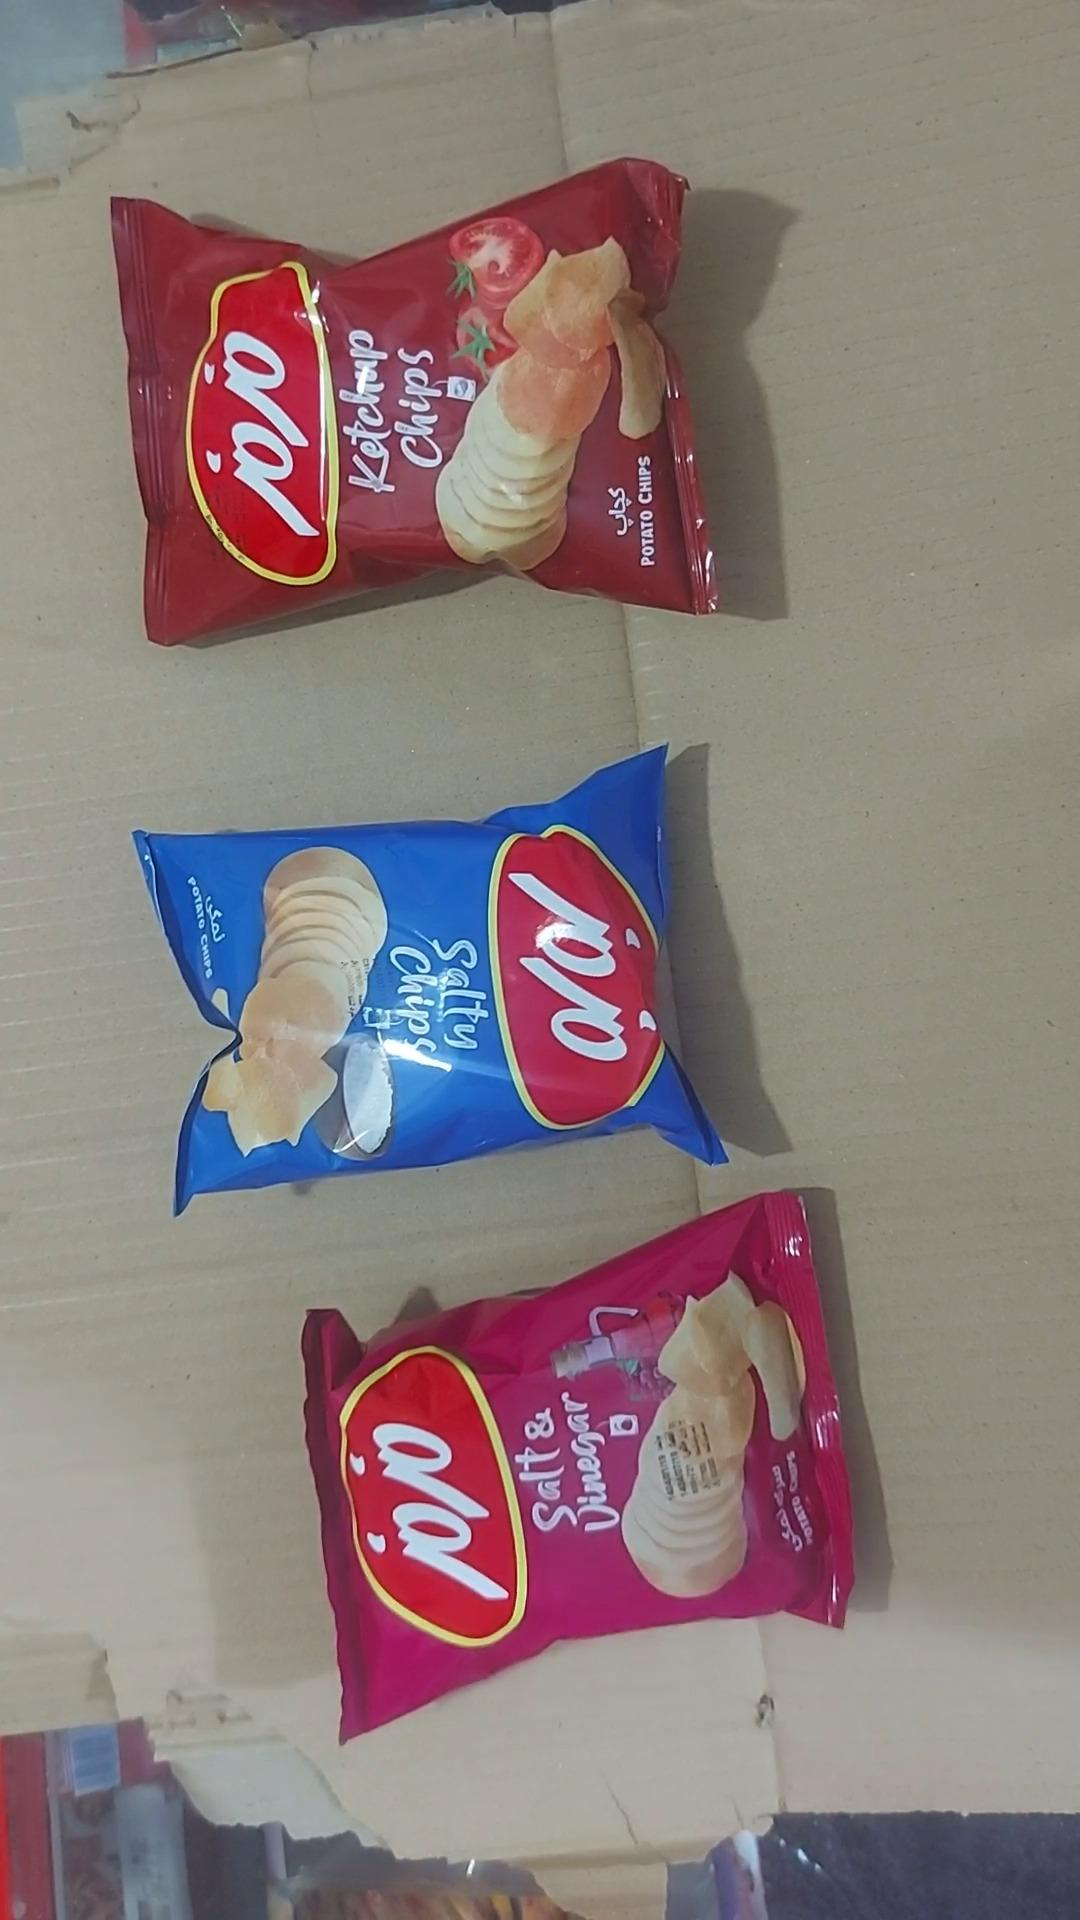Maz Maz ketchup chips: (111, 160, 716, 647)
Maz Maz salty chips: (131, 745, 731, 1220)
Maz Maz vinegar chips: (298, 1193, 856, 1745)
